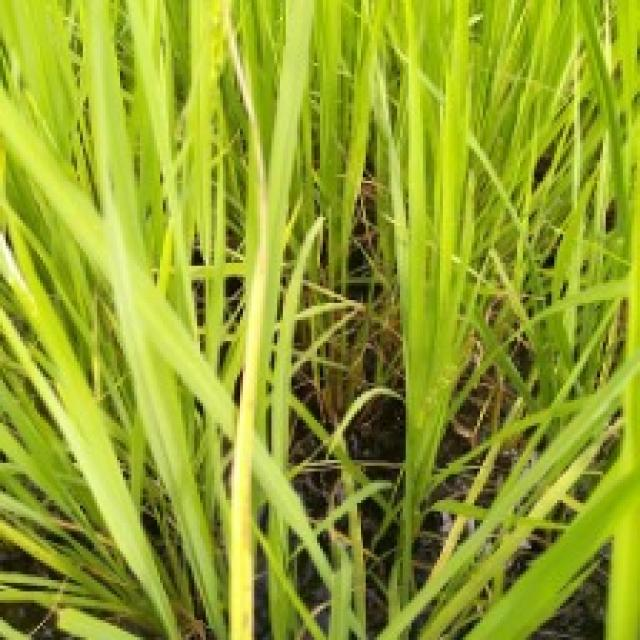Rice___Bacterial_Leaf_Blight: (225, 27, 272, 637)
